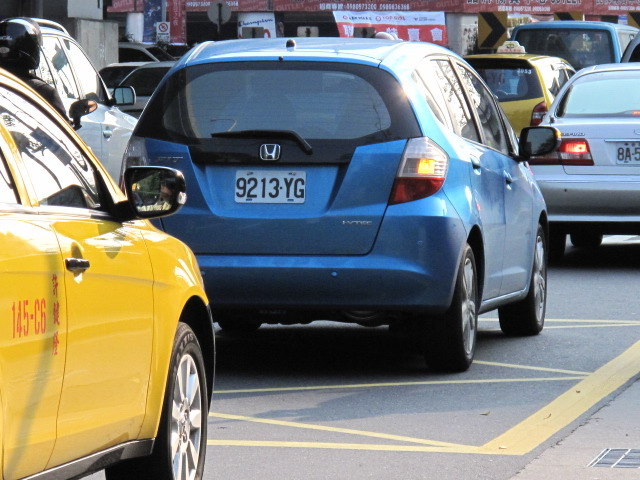plate: (233, 167, 309, 205)
